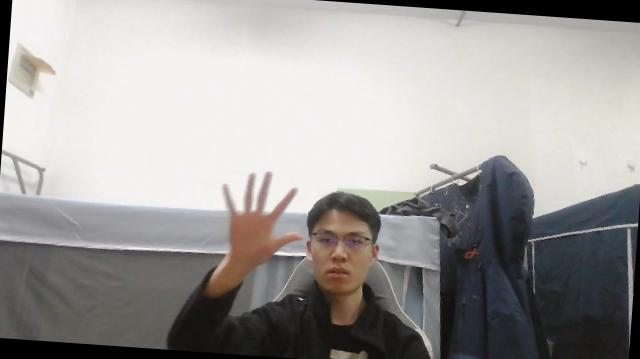five: (214, 168, 305, 270)
